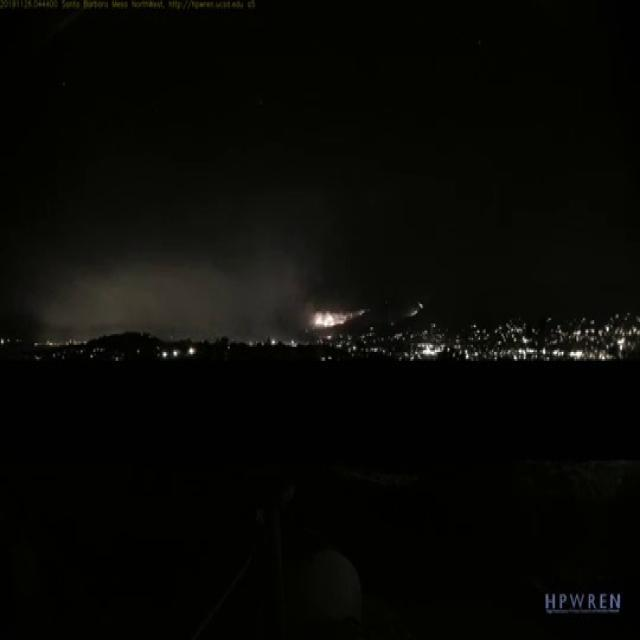Fire: (314, 298, 365, 330)
Smoke: (43, 245, 310, 343)
